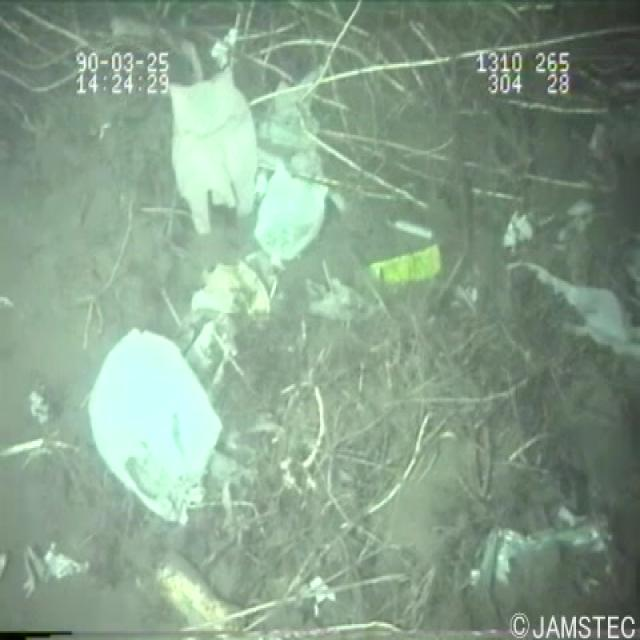plastic: (162, 61, 330, 270), (81, 316, 228, 534)
